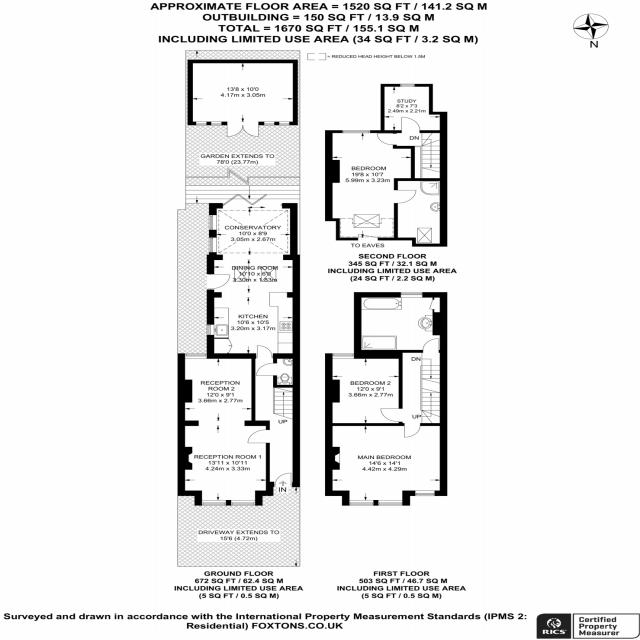DOOR: (206, 273, 231, 290), (400, 116, 421, 133), (247, 429, 270, 444), (394, 189, 417, 204), (380, 408, 403, 422), (255, 362, 277, 376), (376, 133, 398, 146), (403, 423, 421, 438), (422, 338, 440, 353), (255, 345, 274, 359)
ROOM: (177, 353, 270, 506), (324, 130, 417, 241), (325, 423, 447, 506), (206, 255, 300, 359), (325, 350, 403, 426)
WINDOW: (377, 499, 404, 506), (348, 500, 375, 506), (201, 500, 227, 506), (230, 500, 256, 506), (400, 292, 423, 298), (184, 353, 207, 359), (332, 353, 354, 359), (414, 490, 435, 496), (206, 324, 215, 336), (342, 130, 371, 133), (400, 83, 415, 87)
